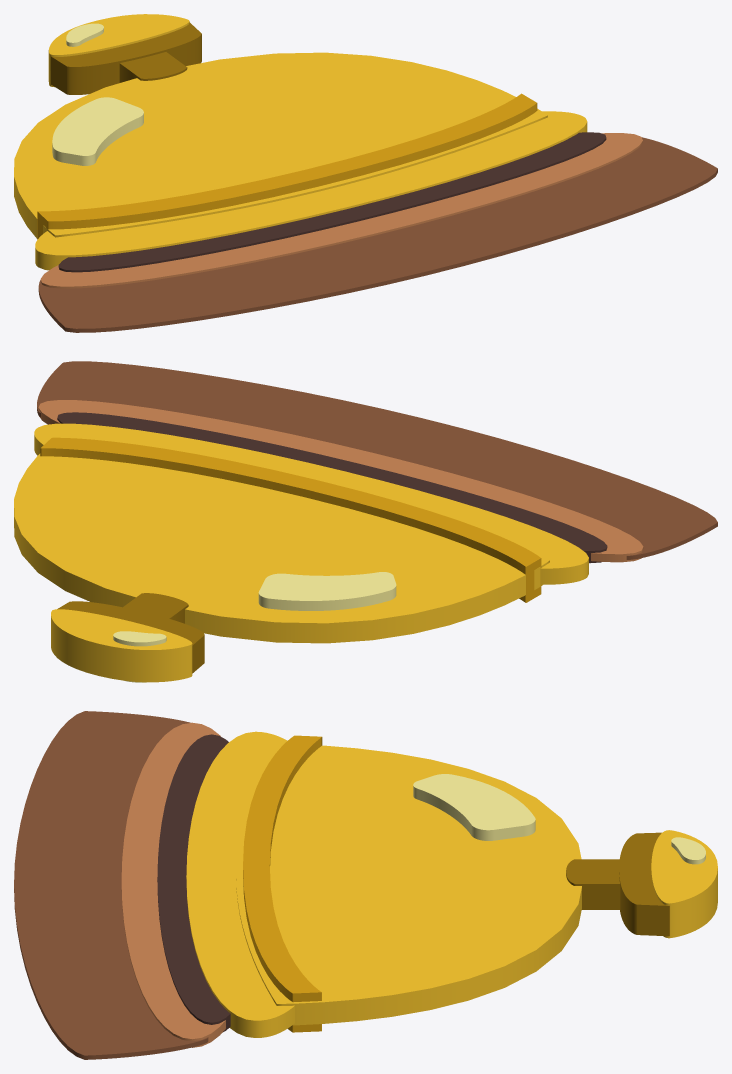
File: emoji_u1f6ce.glb
3 views of the same model, one above another, from view 1: azimuth 30°, elevation 25°; view 2: azimuth 150°, elevation 25°; view 3: azimuth 270°, elevation 25° (orthographic). The views are drawn at different scales.
Visible parts, largest first — view 1: emoji_u1f6ce; view 2: emoji_u1f6ce; view 3: emoji_u1f6ce.
Boxes of the visible parts, left/top/right/bottom form: emoji_u1f6ce: left=14, top=14, right=717, bottom=332; emoji_u1f6ce: left=14, top=361, right=717, bottom=682; emoji_u1f6ce: left=14, top=711, right=717, bottom=1059.
Size of the model in its own units: 0.0341 by 0.002 by 0.0294.
